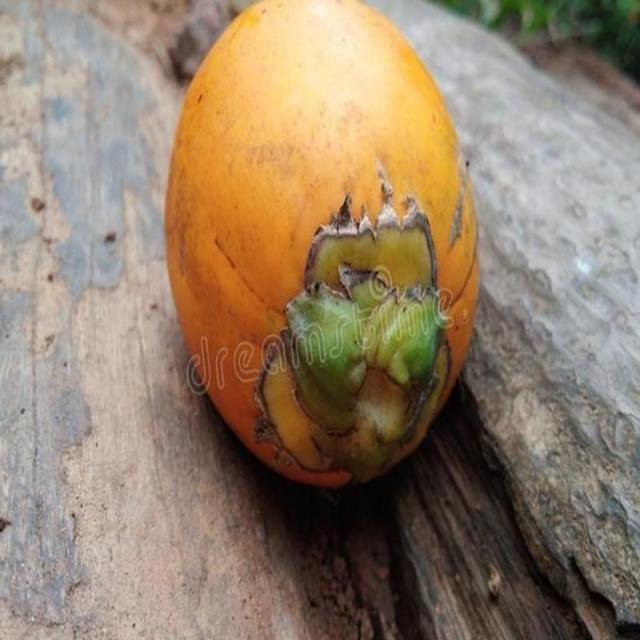good: (163, 0, 482, 495)
